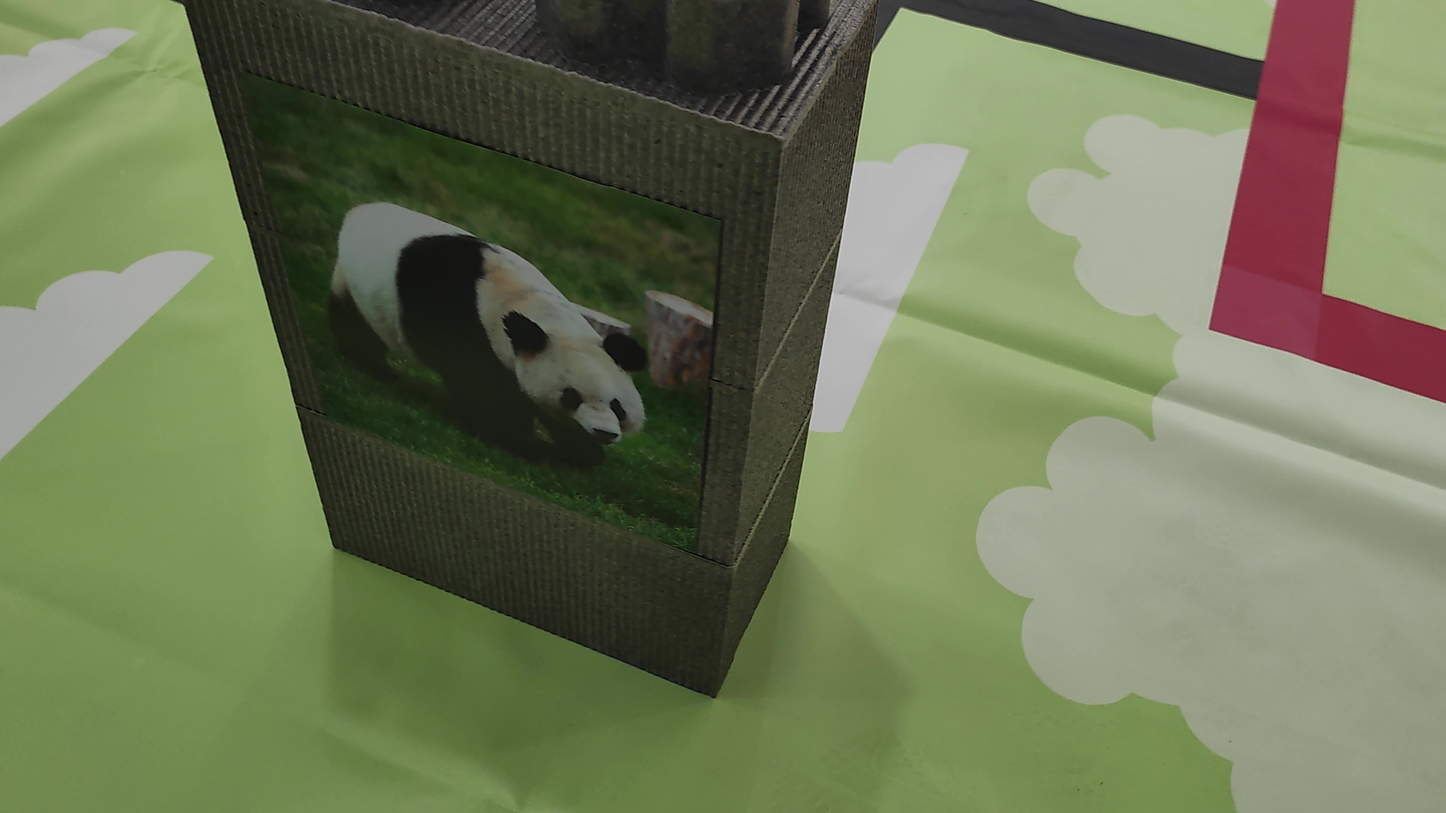panda: (293, 175, 645, 474)
